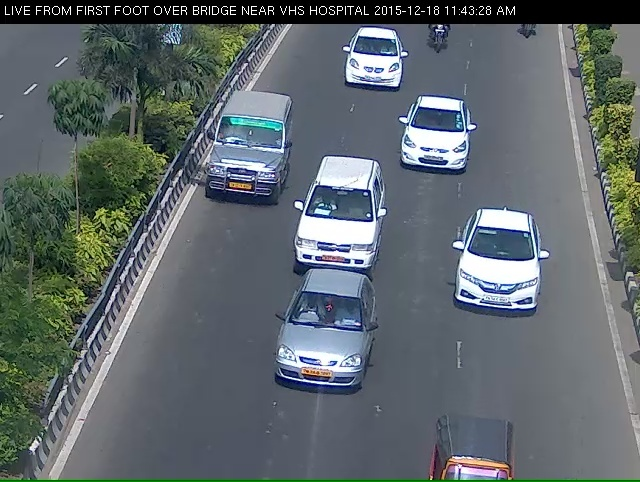Car: (262, 294, 371, 422), (454, 212, 549, 346), (290, 172, 383, 294), (207, 102, 277, 223), (399, 104, 477, 194), (336, 30, 405, 101)
Person: (429, 17, 461, 67)
